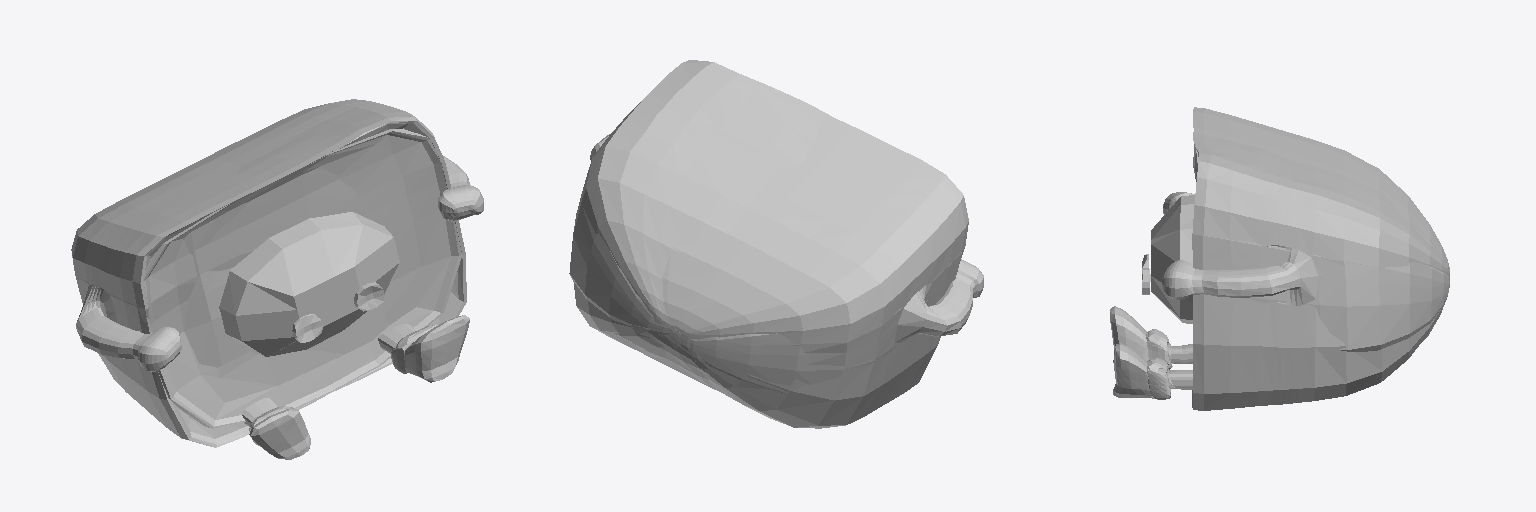
Rendered from Pal_000035.obj.
The picture shows the model from 3 angles: view 1: azimuth 30°, elevation 25°; view 2: azimuth 150°, elevation 25°; view 3: azimuth 270°, elevation 25°; orthographic projection.
Parts seen in each view (by area): view 1: Cuerpo_de_aguacate_3.001_Cube.002, Hueso_Cubo.003, Ojos_Cubo.002; view 2: Cuerpo_de_aguacate_3.001_Cube.002; view 3: Cuerpo_de_aguacate_3.001_Cube.002, Hueso_Cubo.003.
Boxes of the visible parts, x1=… form: Cuerpo_de_aguacate_3.001_Cube.002: x1=71, y1=99, x2=483, y2=459; Hueso_Cubo.003: x1=219, y1=212, x2=399, y2=356; Ojos_Cubo.002: x1=292, y1=282, x2=384, y2=342; Cuerpo_de_aguacate_3.001_Cube.002: x1=569, y1=60, x2=983, y2=428; Cuerpo_de_aguacate_3.001_Cube.002: x1=1110, y1=107, x2=1449, y2=410; Hueso_Cubo.003: x1=1151, y1=195, x2=1194, y2=323.
Size of the model in its own units: 1.26 by 0.9214 by 1.01.